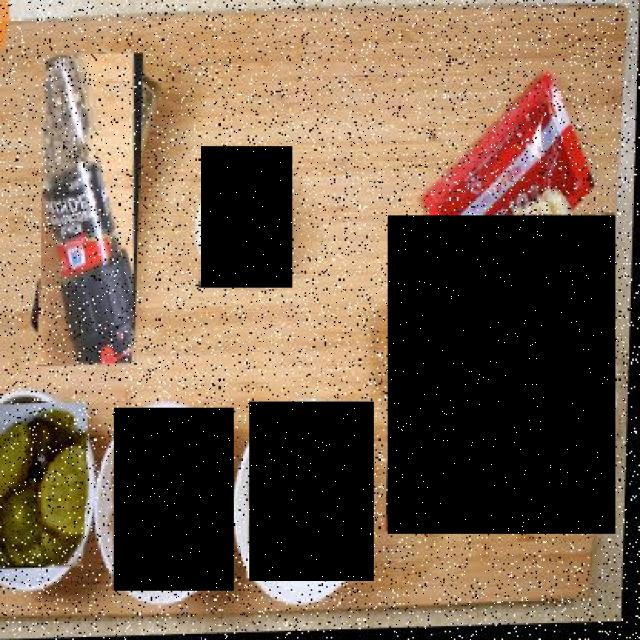Corn: (113, 408, 234, 590)
Onion: (200, 147, 292, 288)
mayonnaise: (249, 402, 374, 580)
noodle: (387, 215, 616, 534)
